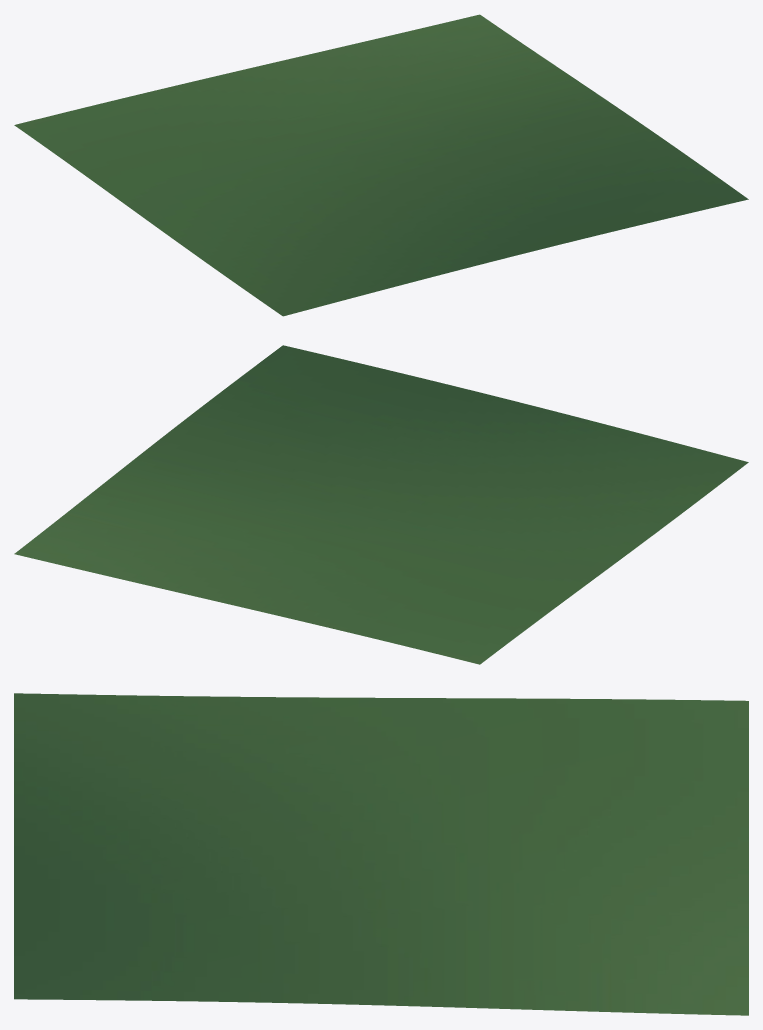
Rendered from terrain_T_E05_S01.glb.
3 renders of one model, top to bottom at view 1: azimuth 30°, elevation 25°; view 2: azimuth 150°, elevation 25°; view 3: azimuth 270°, elevation 25°, orthographic. The views are drawn at different scales.
Visible parts, largest first — view 1: Terrain_T_E05_S01; view 2: Terrain_T_E05_S01; view 3: Terrain_T_E05_S01.
Part boxes in pixels (x1=…): Terrain_T_E05_S01: x1=14, y1=14, x2=748, y2=316; Terrain_T_E05_S01: x1=14, y1=345, x2=748, y2=664; Terrain_T_E05_S01: x1=14, y1=693, x2=748, y2=1015.
Size of the model in its own units: 2000 by 52.94 by 2000.
Materials: 1 (1 with a texture image).
